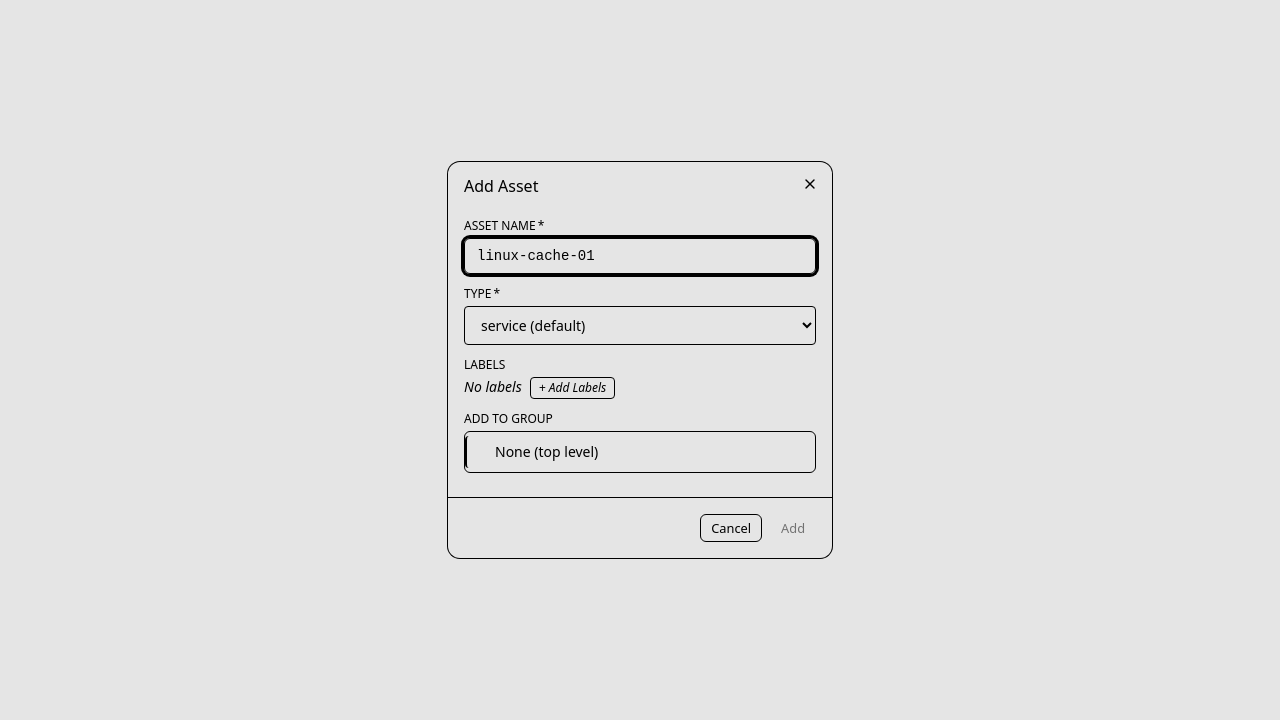
Test: AssetCreateDialog › enables Add button when name is valid
Type "my-service" into the field with placeholder "linux-cache-01" at (640, 256), box [464,238,816,274]
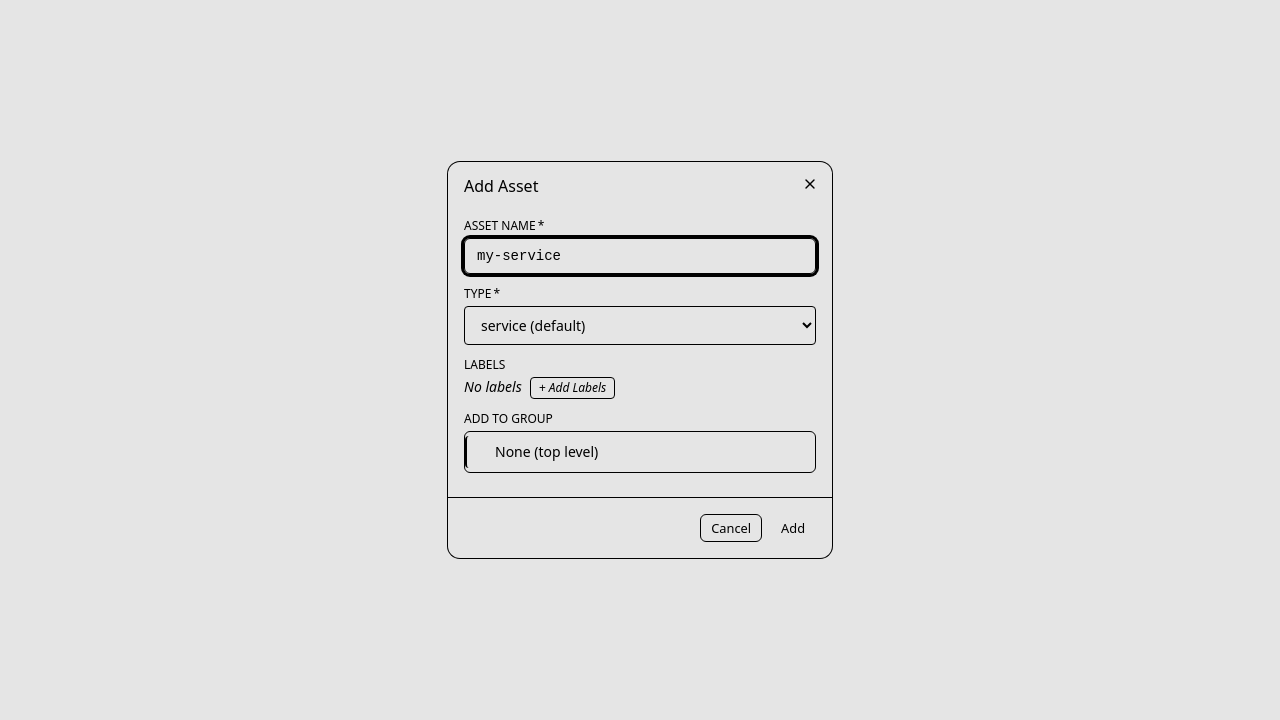
Check: the button "Add" is enabled, box [770,514,816,542]
